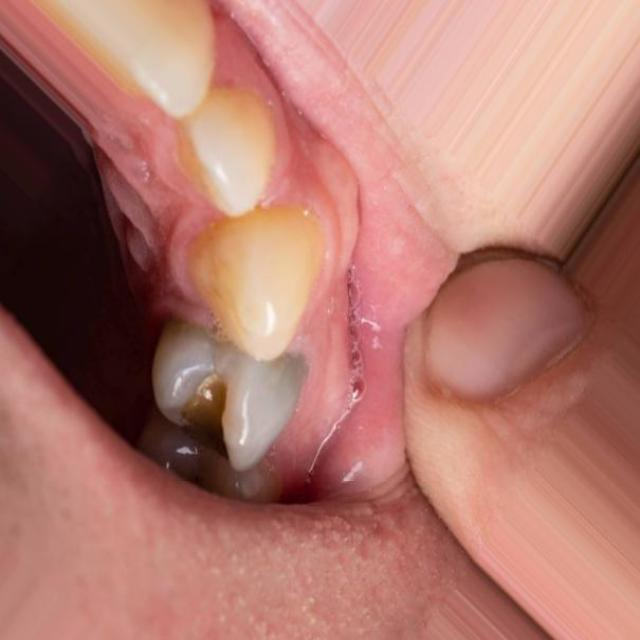caries: (163, 354, 253, 449)
